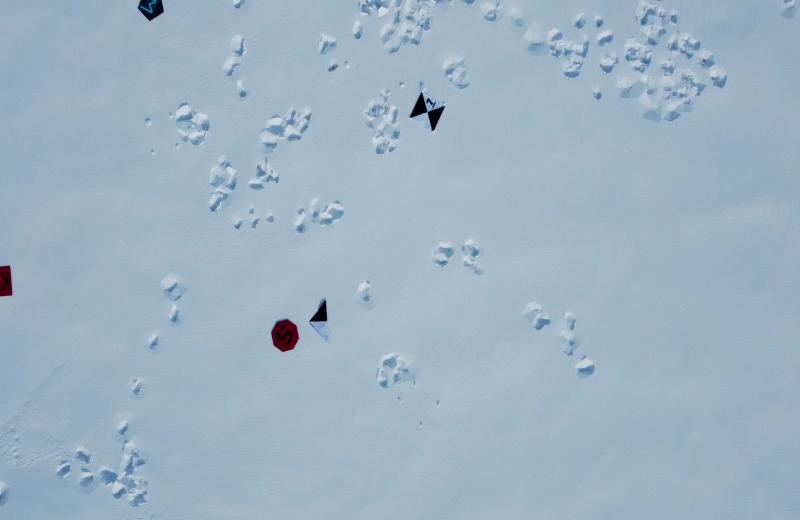Octagon: (271, 318, 300, 356)
Pentagon: (136, 0, 166, 27)
Rectangle: (0, 264, 16, 298)
